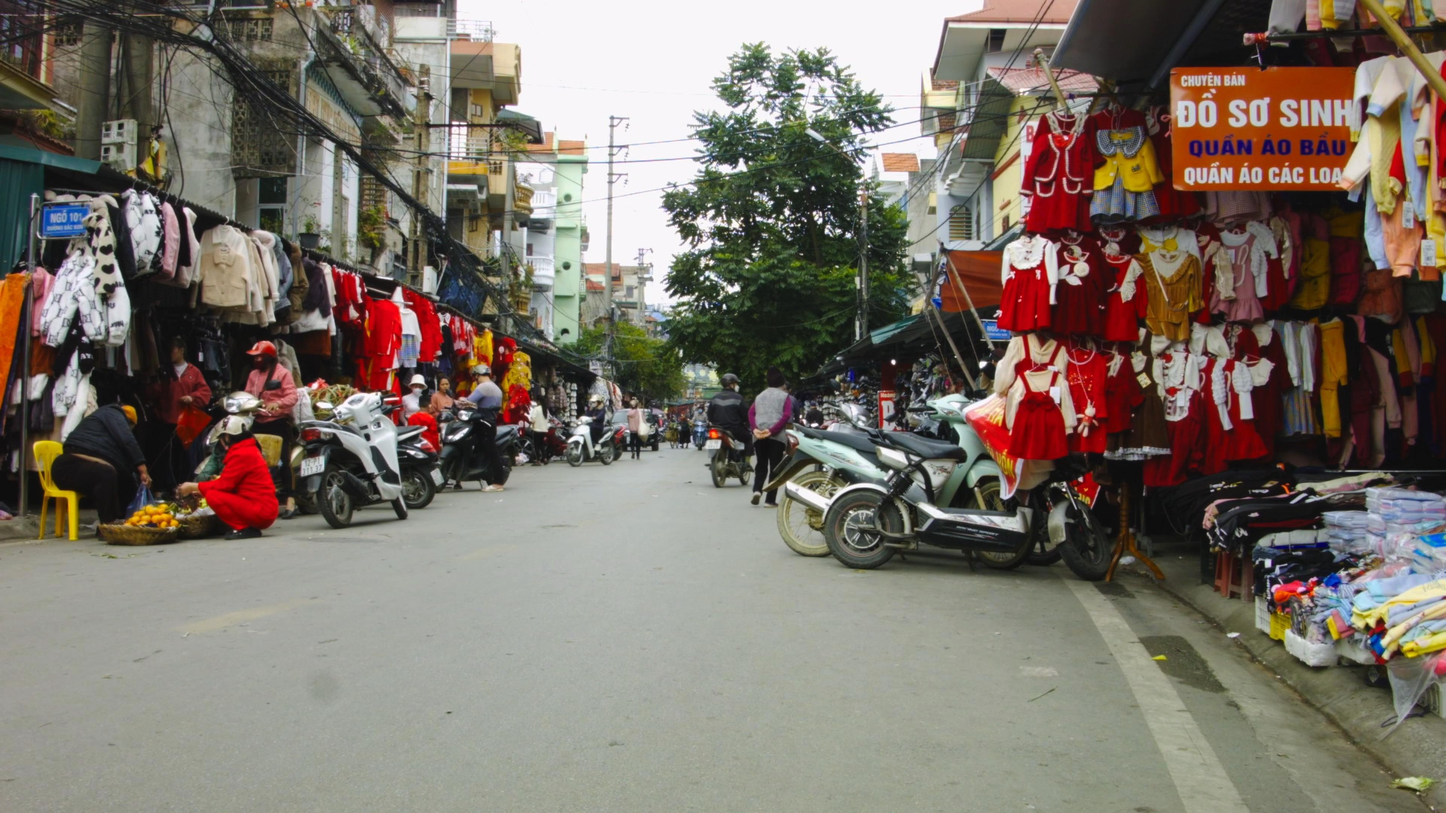driver: (704, 373, 755, 488), (565, 394, 615, 467)
helmet: (246, 341, 277, 370), (721, 373, 741, 393), (472, 364, 491, 385)
no-helmet: (408, 374, 428, 396), (438, 376, 450, 393)
